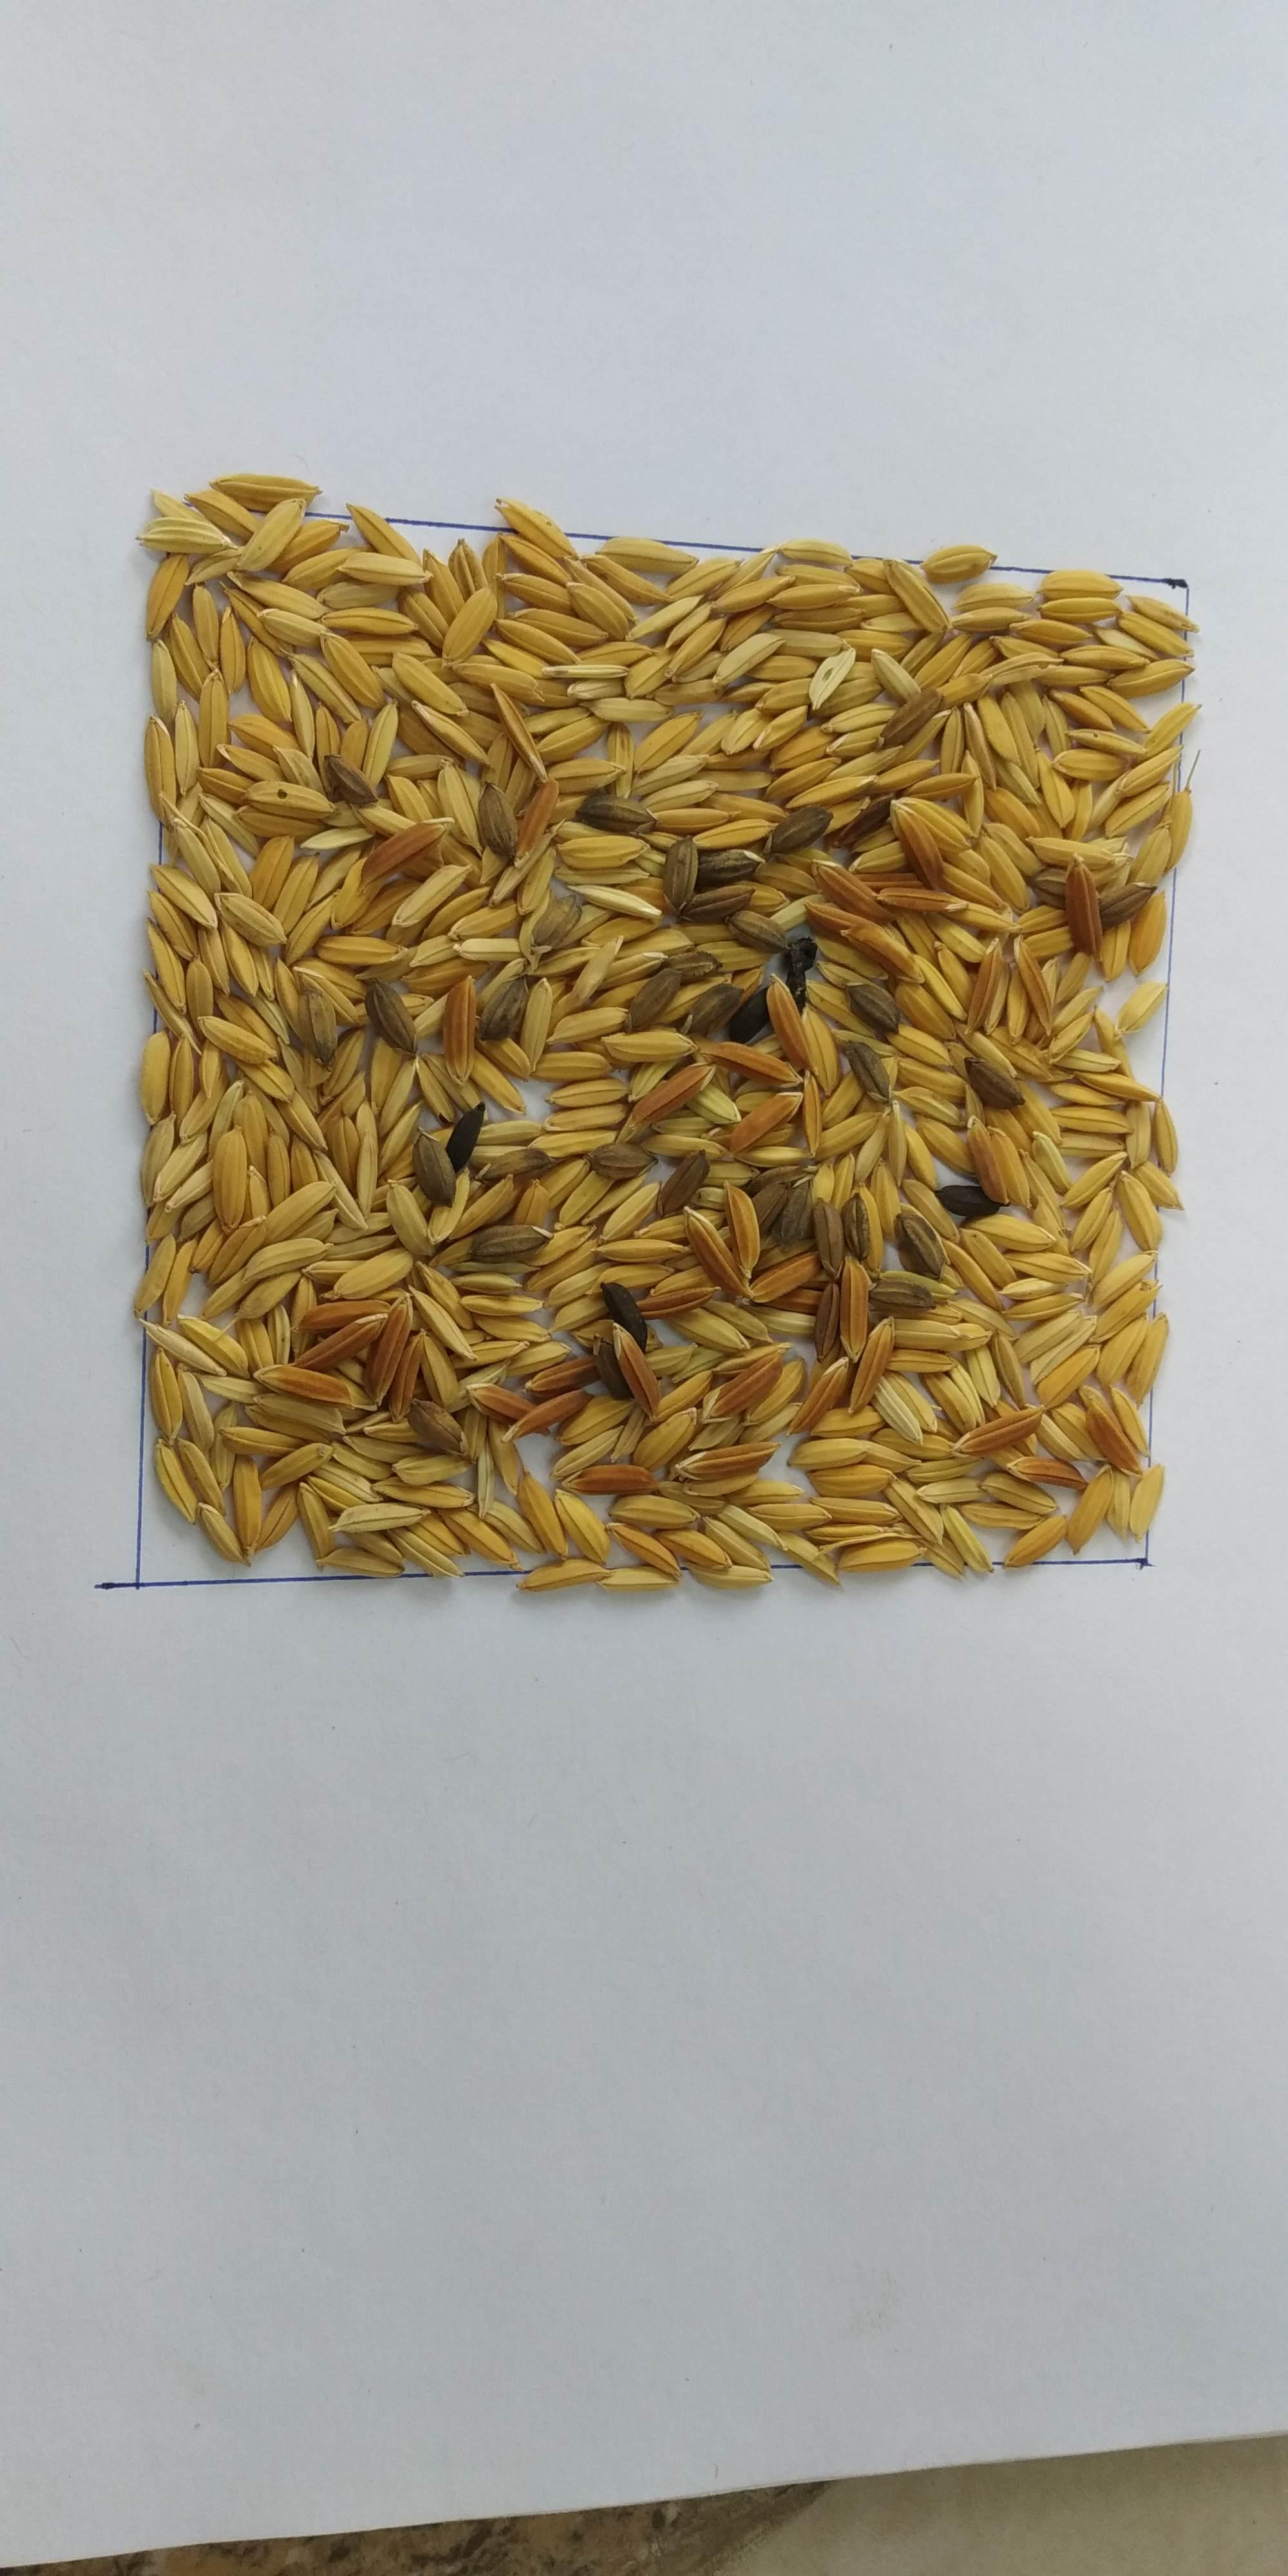impure: (164, 570, 1119, 1544)
